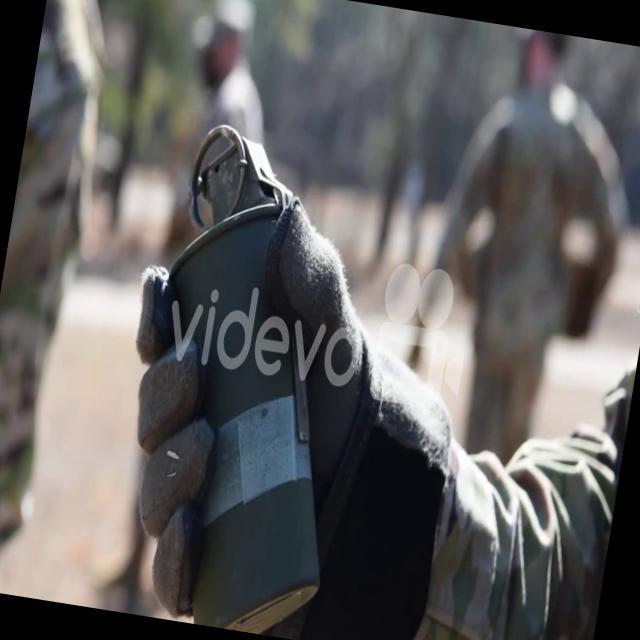grenade: (107, 112, 396, 640)
